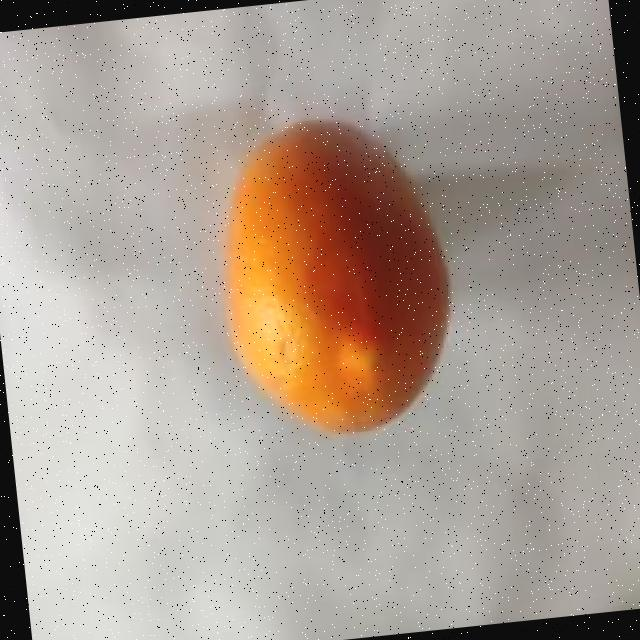Ripe: (202, 100, 473, 453)
